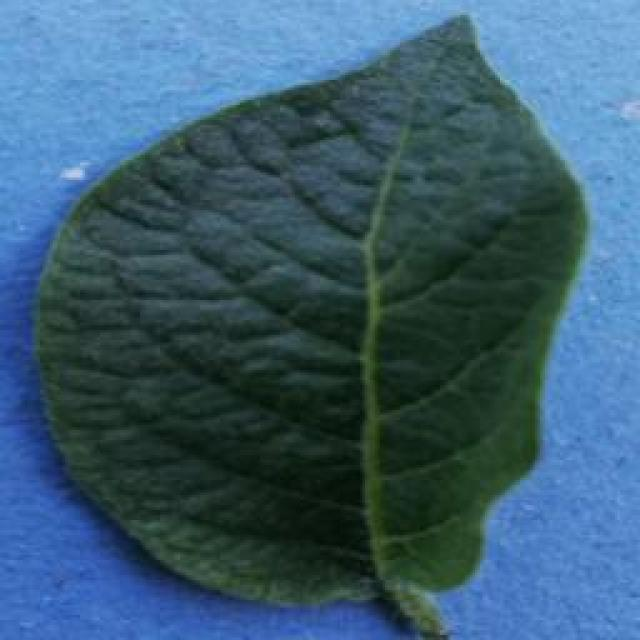Potato_Healthy: (36, 10, 586, 629)
